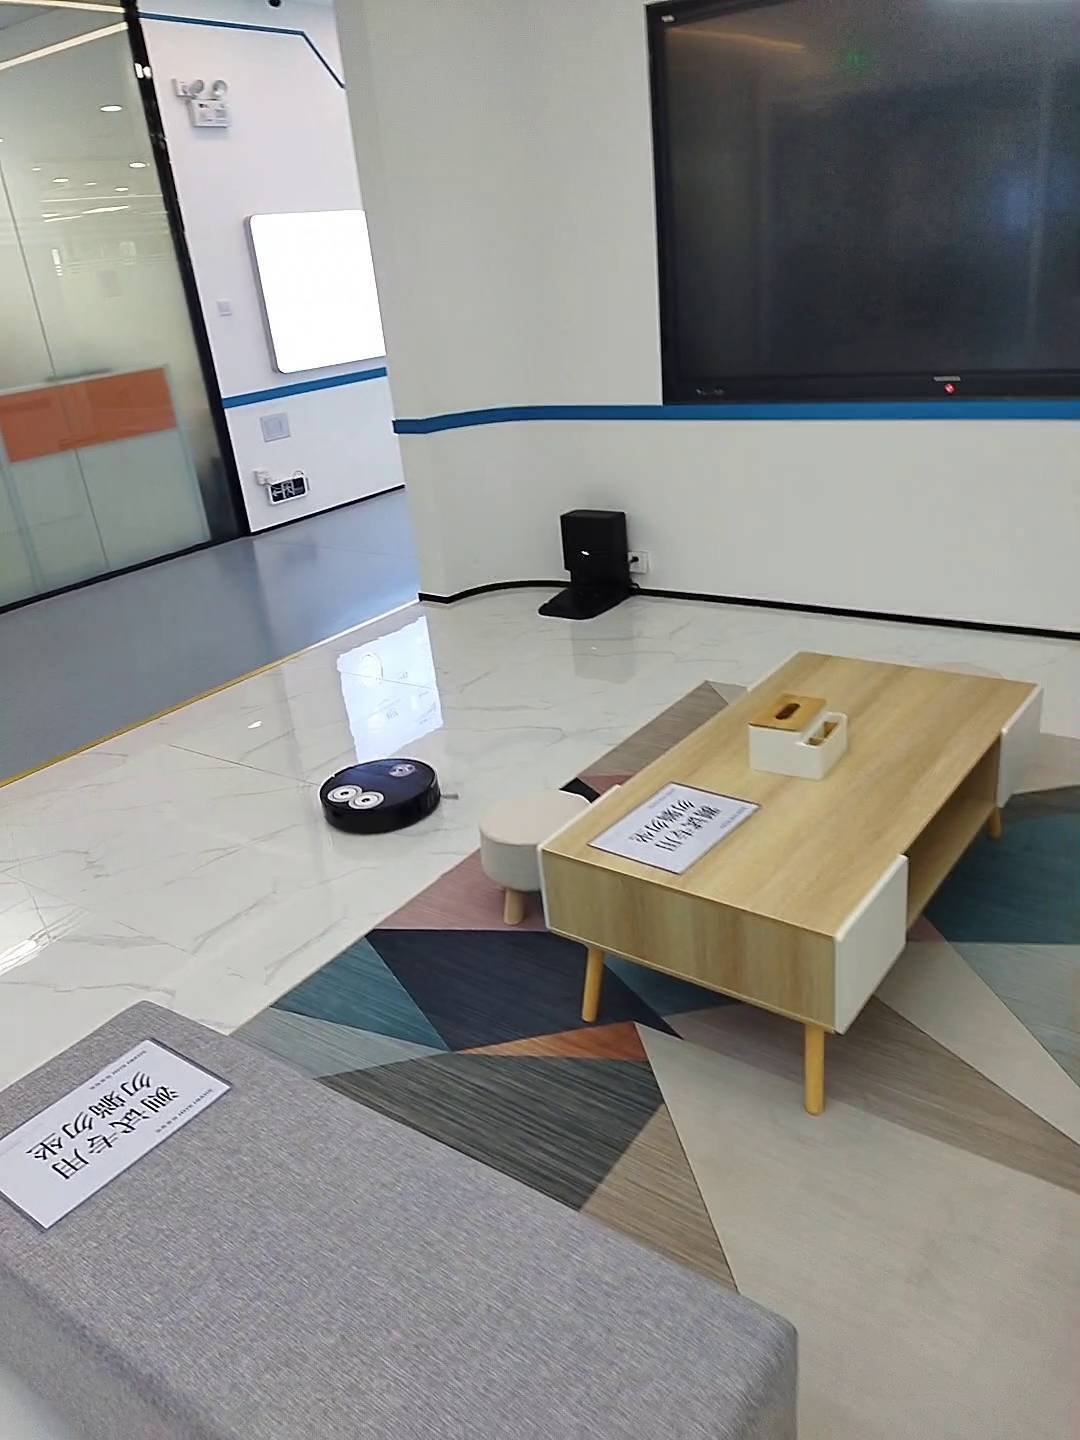dust collecting barrel: (539, 509, 638, 620)
